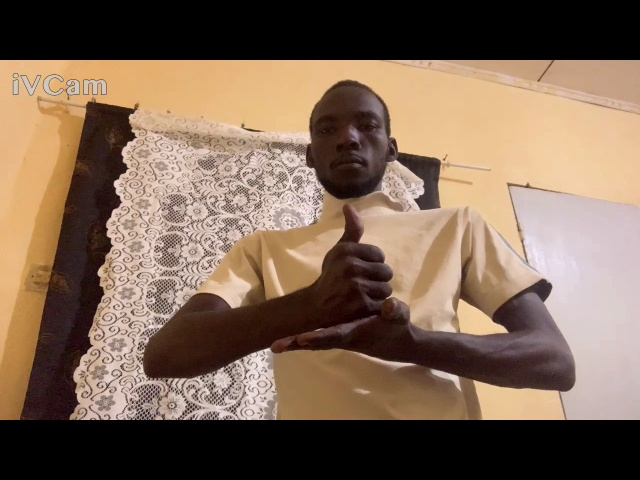aide: (263, 202, 455, 374)
